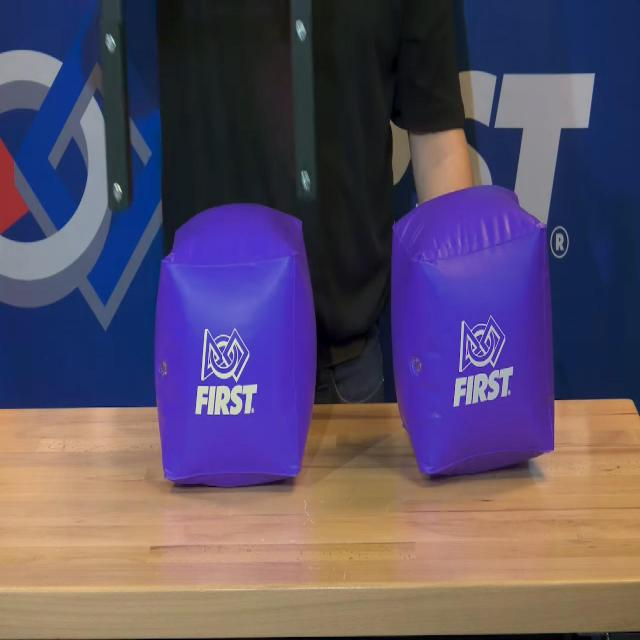frc_cube: (390, 184, 557, 479), (154, 204, 316, 485)
